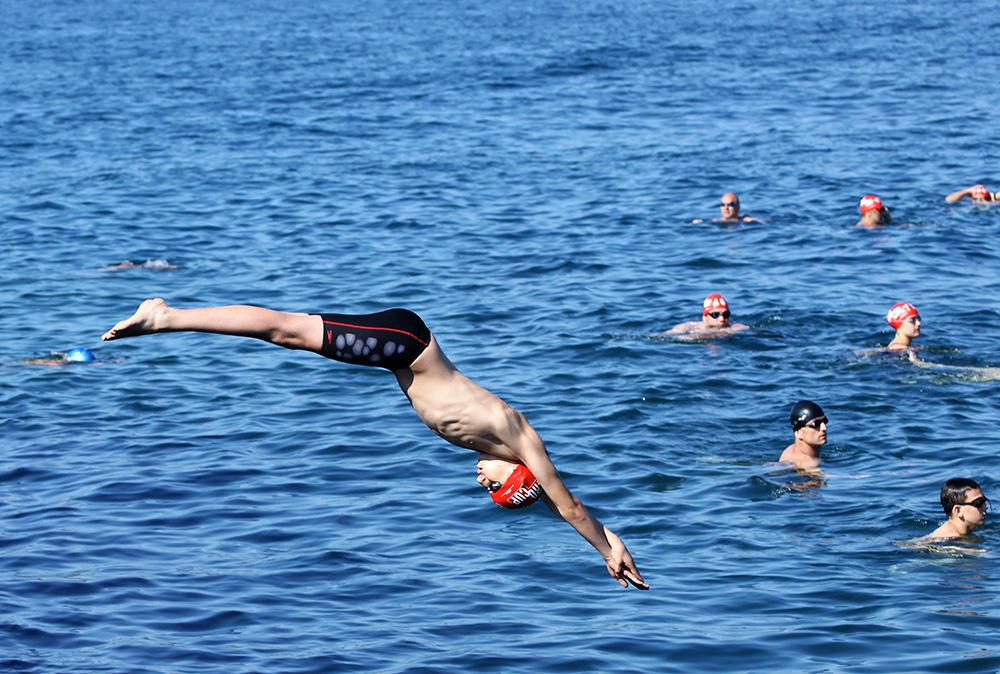human: (917, 474, 988, 559), (775, 396, 834, 482), (674, 295, 748, 339), (882, 300, 932, 361), (697, 188, 765, 225), (853, 194, 897, 238), (947, 182, 1000, 210)
